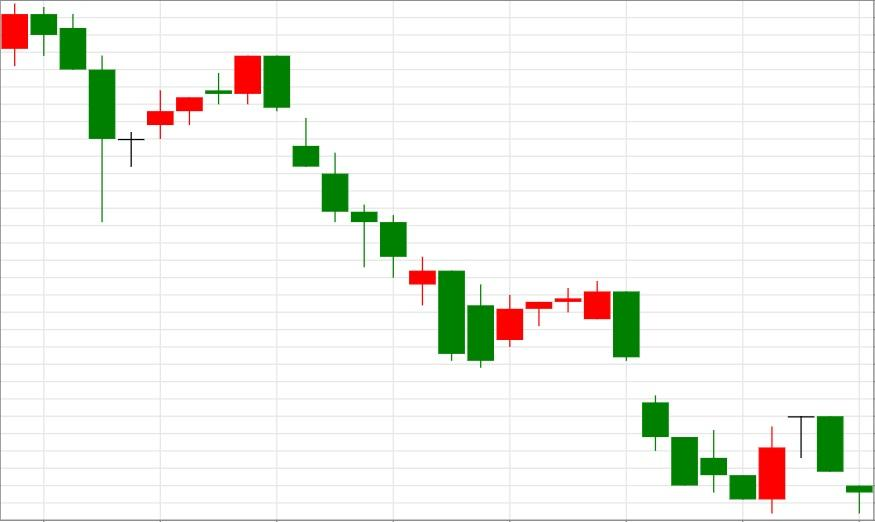bearish_engulfing_fall: (117, 55, 291, 167)
bullish_engulfing_rise: (583, 281, 787, 515)
